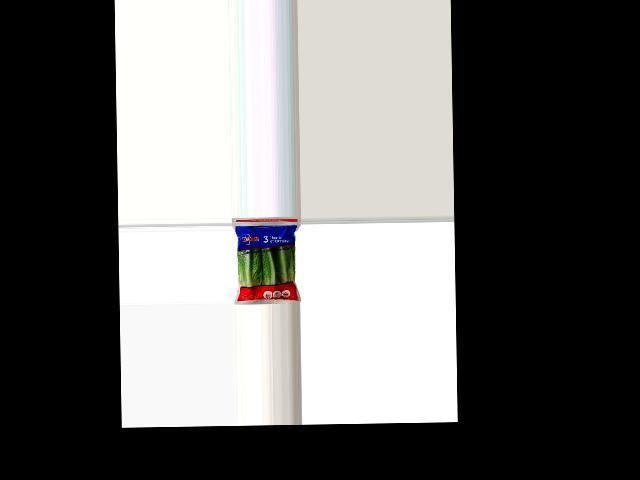lettuce: (231, 221, 299, 304)
